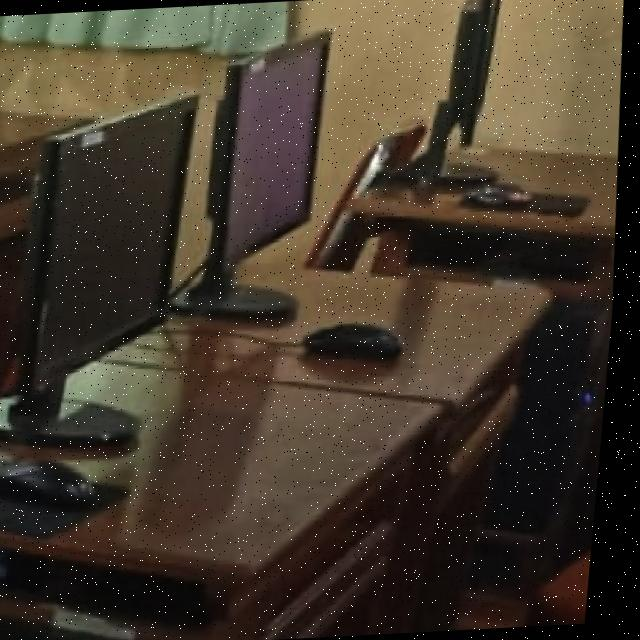offscreen: (31, 96, 198, 394), (235, 34, 328, 260), (450, 0, 499, 144)
